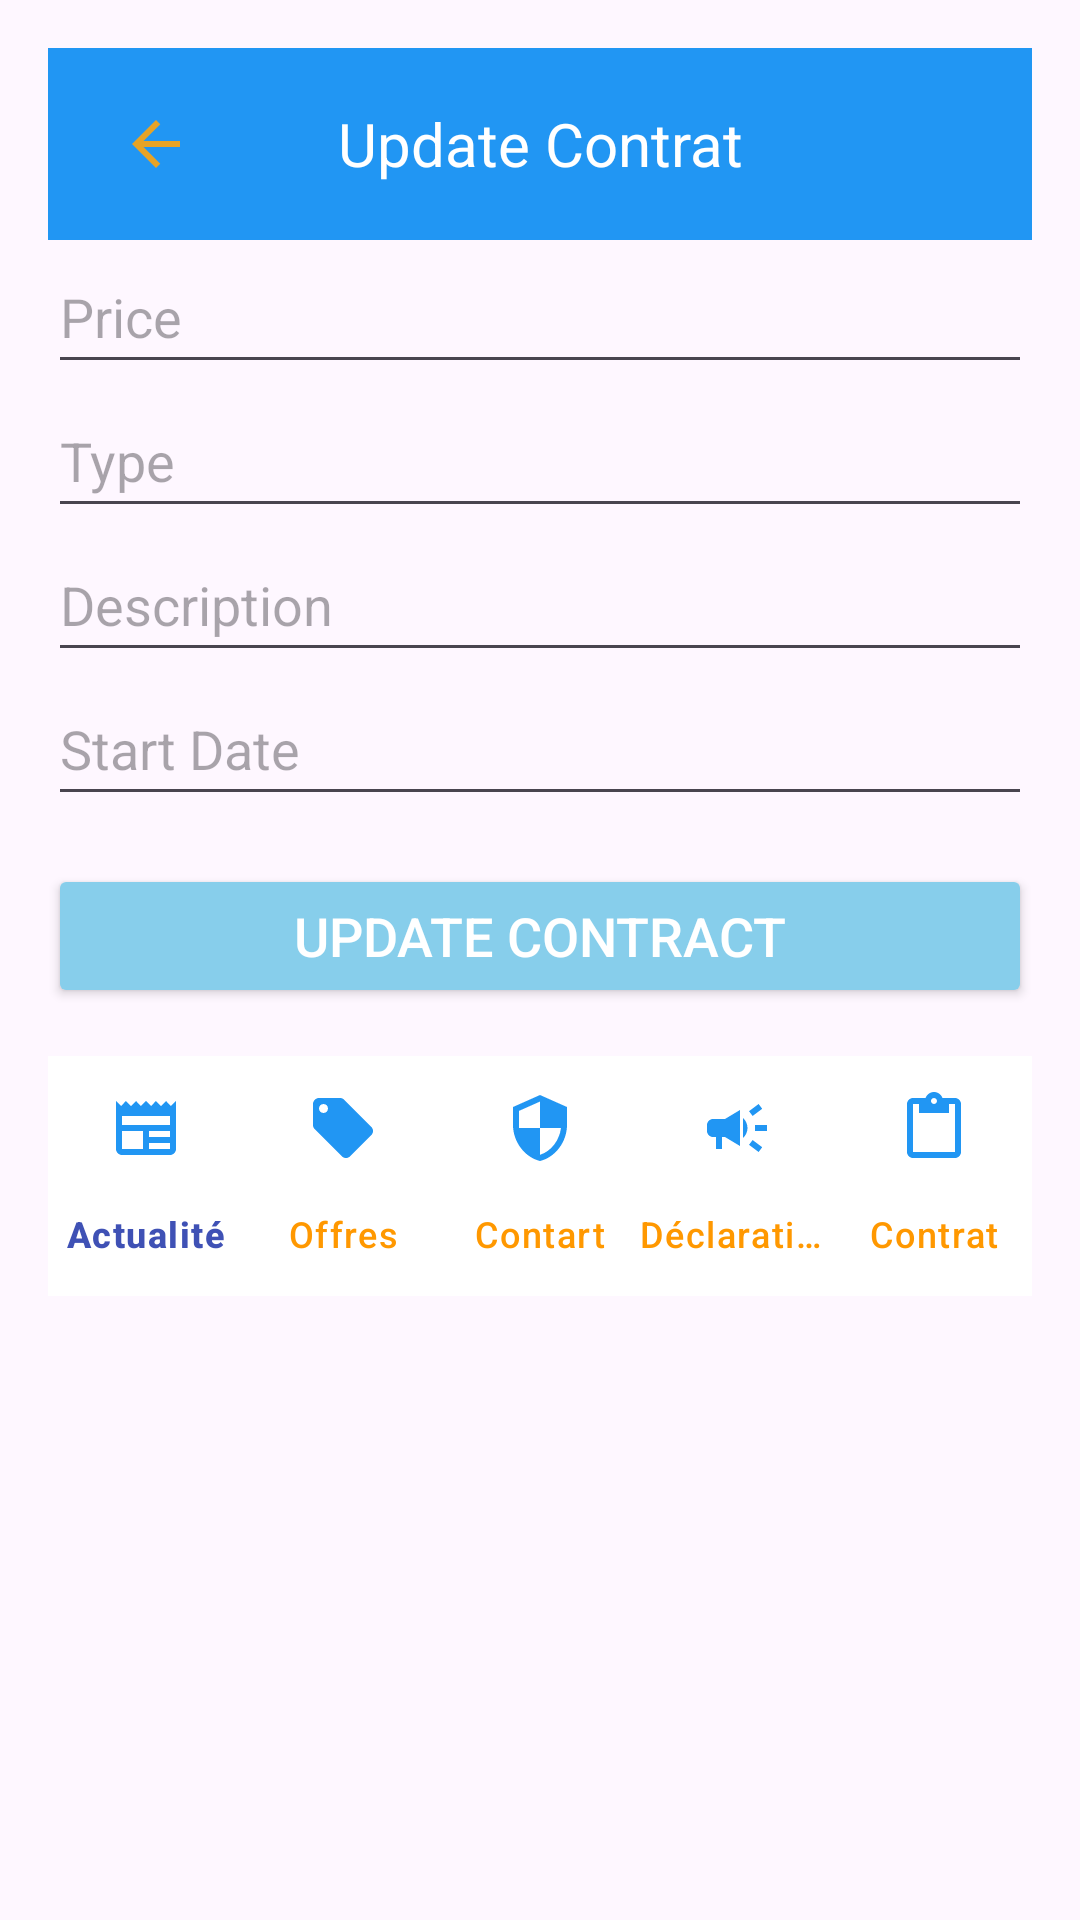

Named icons in this screenshot (1080w x 1920h) and their bounding boxes, bbox=[x1, y1, x2, y2]:
Back: bbox=[132, 120, 180, 168]
